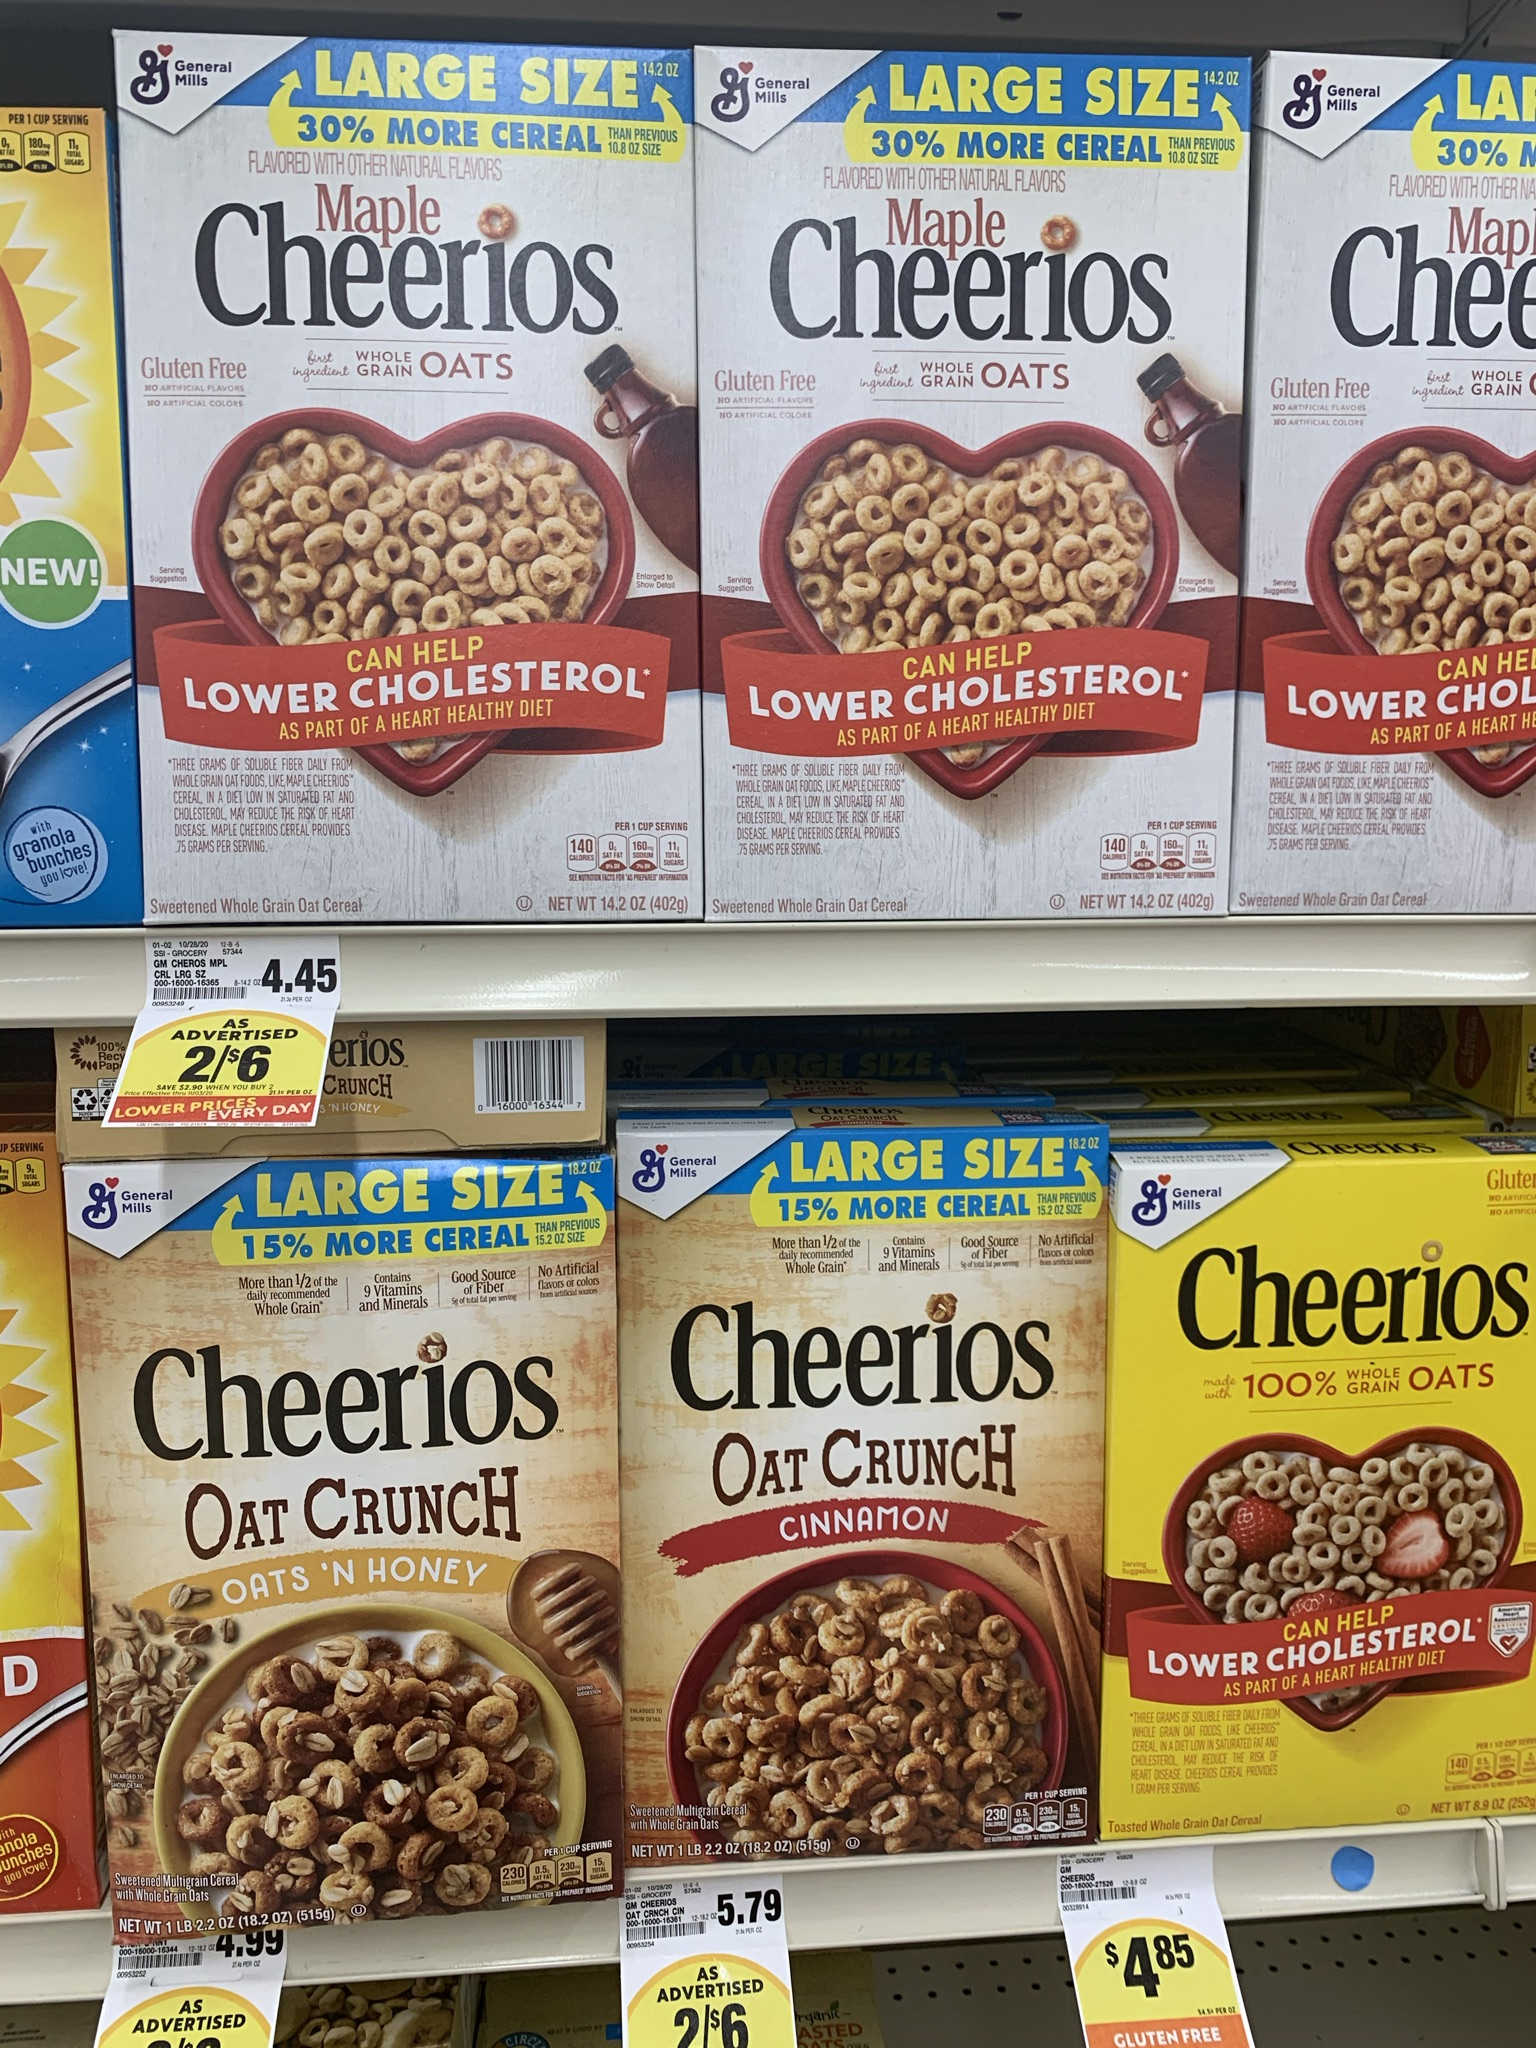box: (153, 47, 691, 914), (715, 53, 1217, 910), (87, 1172, 607, 1893), (634, 1138, 1083, 1850), (1131, 1174, 1536, 1822), (1268, 65, 1536, 918)
